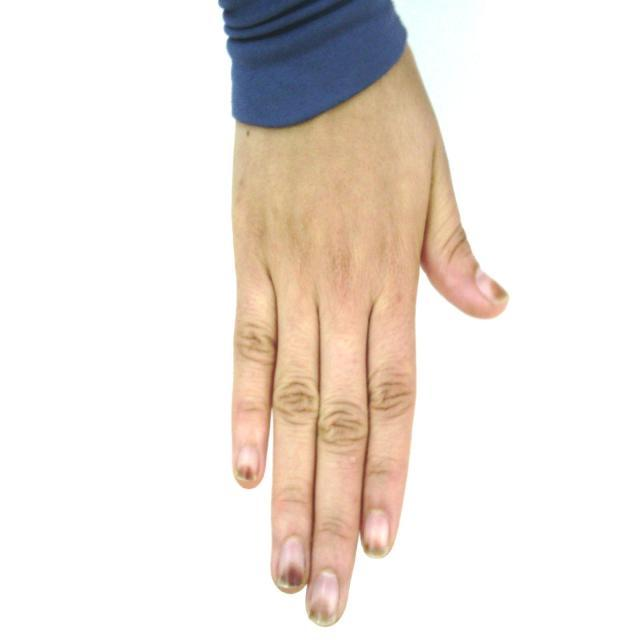Fingernail: (310, 571, 340, 627), (277, 536, 307, 591), (364, 512, 389, 557), (476, 270, 507, 303), (236, 446, 259, 483)
